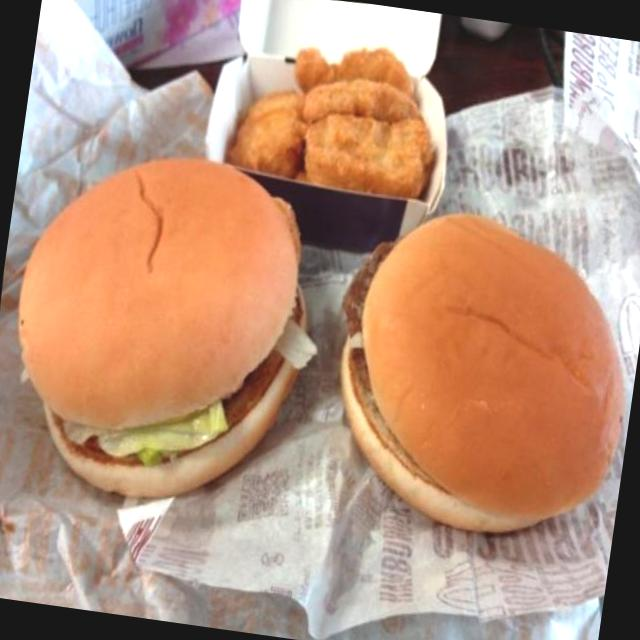Hamburger: (0, 123, 338, 523), (301, 180, 640, 566)
